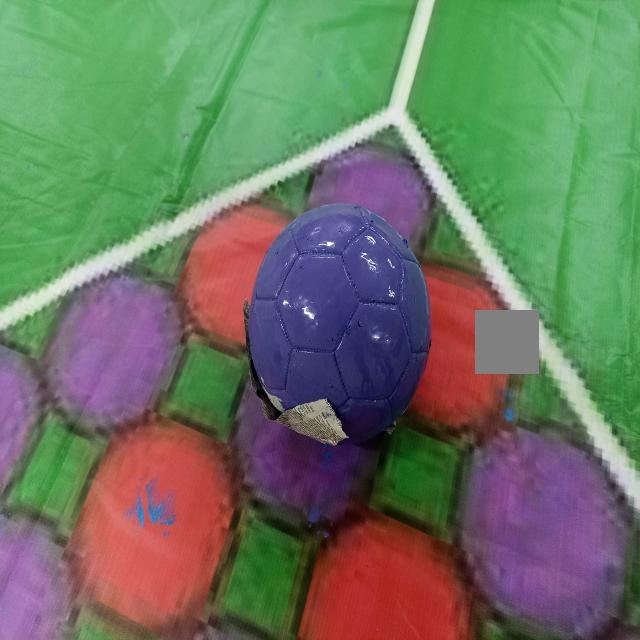purple_ball: (232, 200, 436, 452)
